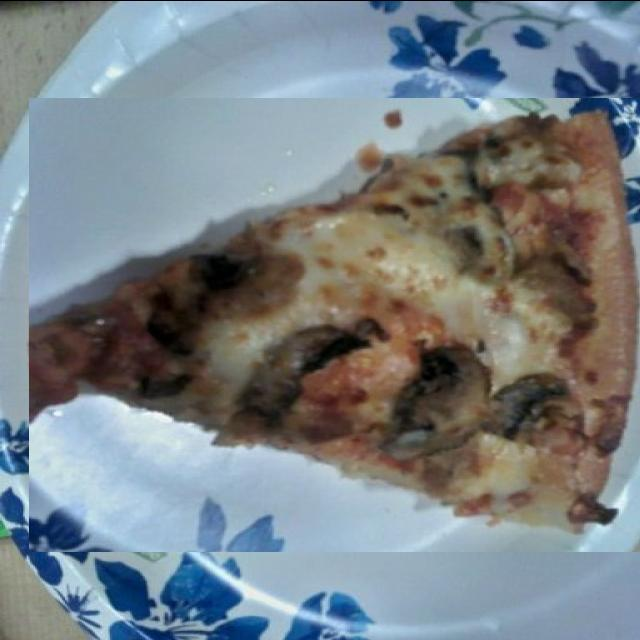pizza: (29, 97, 640, 551)
